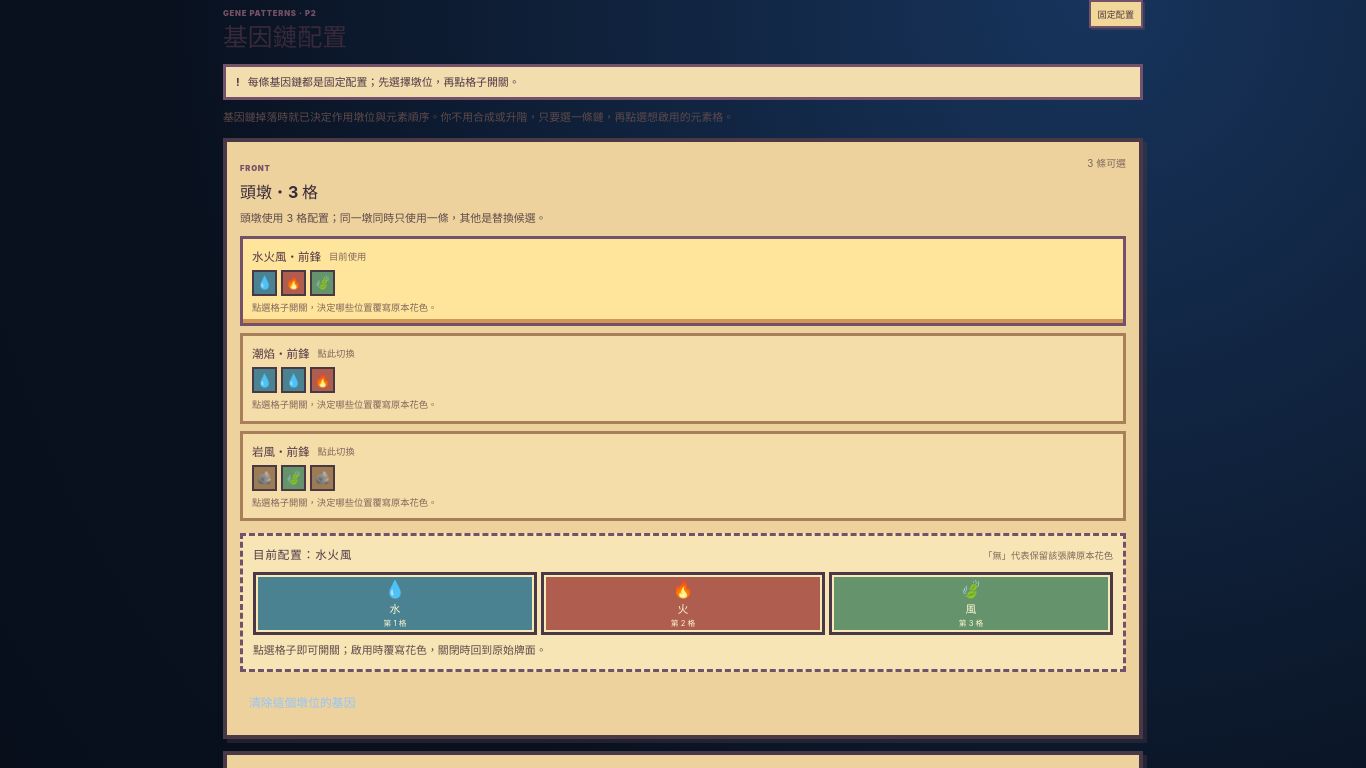
it: GeneWorkshopView › switches between two chains on the same lane
The image size is (1366, 768).
Click the button "潮焰・前鋒 點此切換 💧 💧 🔥 點選格子開關，決定哪些位置覆寫原本花色。".
click(281, 354)  # box left=240, top=333, right=1126, bottom=424
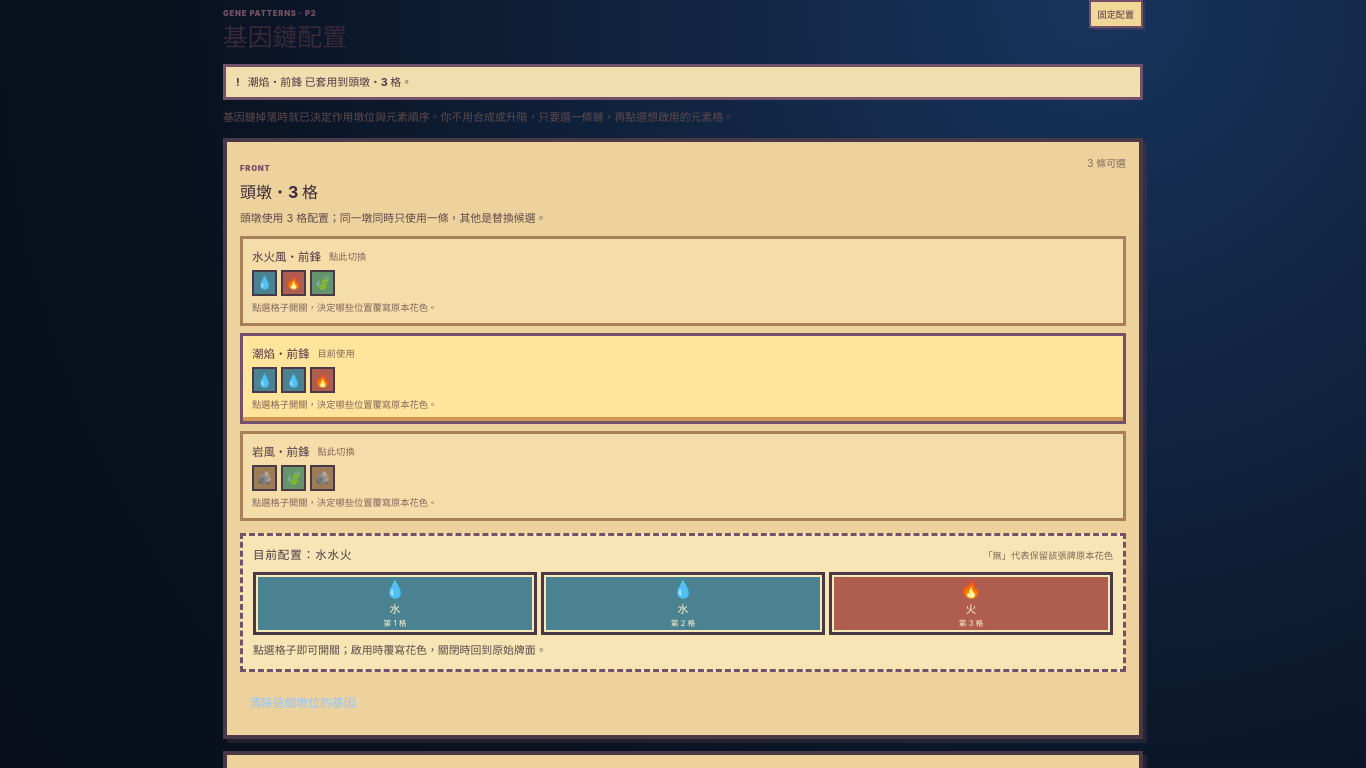
Expected: the text "目前配置：水水火" is shown, left=253, top=546, right=352, bottom=562
